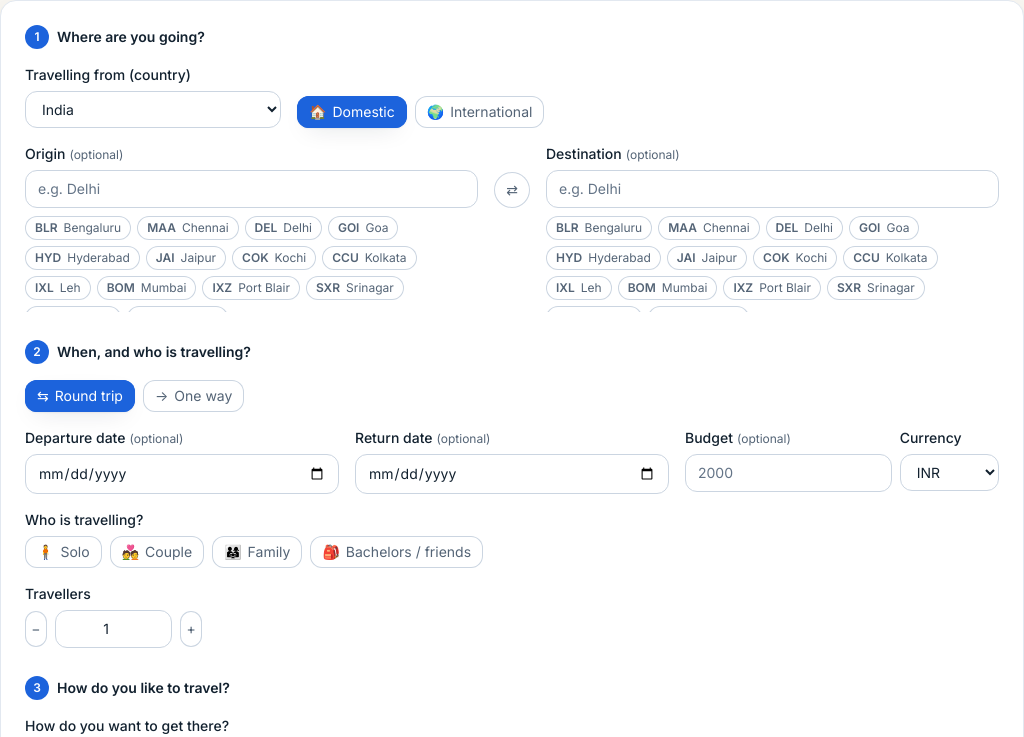
Scenario: PlannerForm › switches the domestic cities with the home country
Expected: the button "CCU Kolkata" below "Origin" is shown, [322,246,416,270]
Select "Bangladesh" in the dropdown labelled "Travelling from (country)": (153, 110) [25,91,281,128]
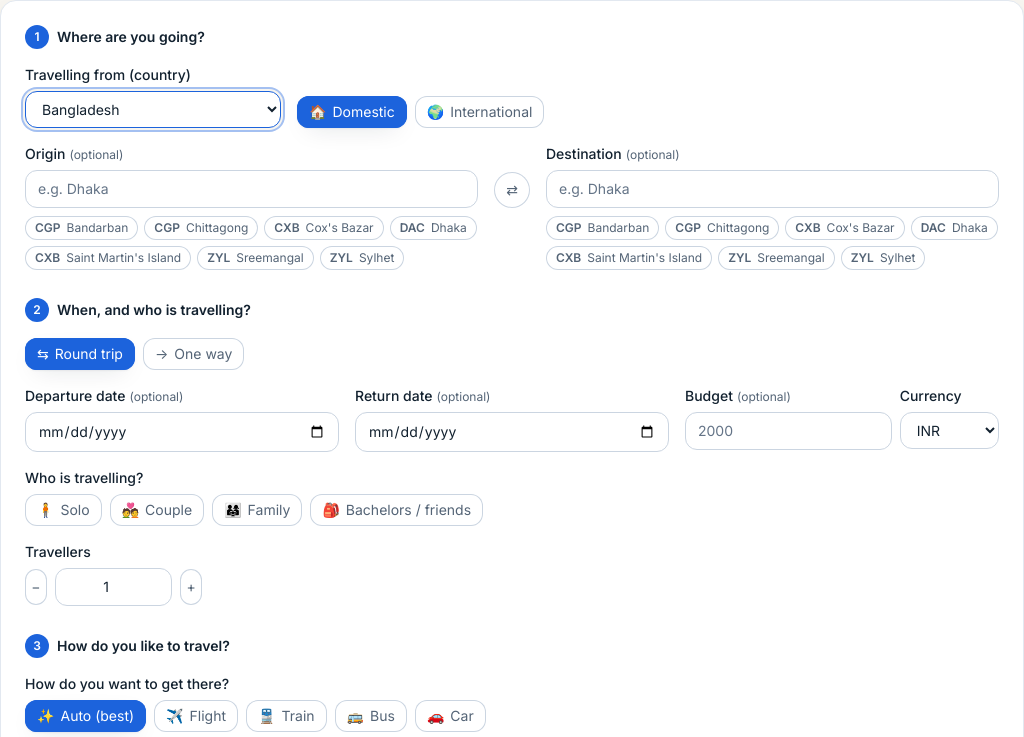
Expected: the button "CCU Kolkata" is gone
Expected: the number of buttons "DAC Dhaka" is 2, [390,216,477,240]; [911,216,998,240]
